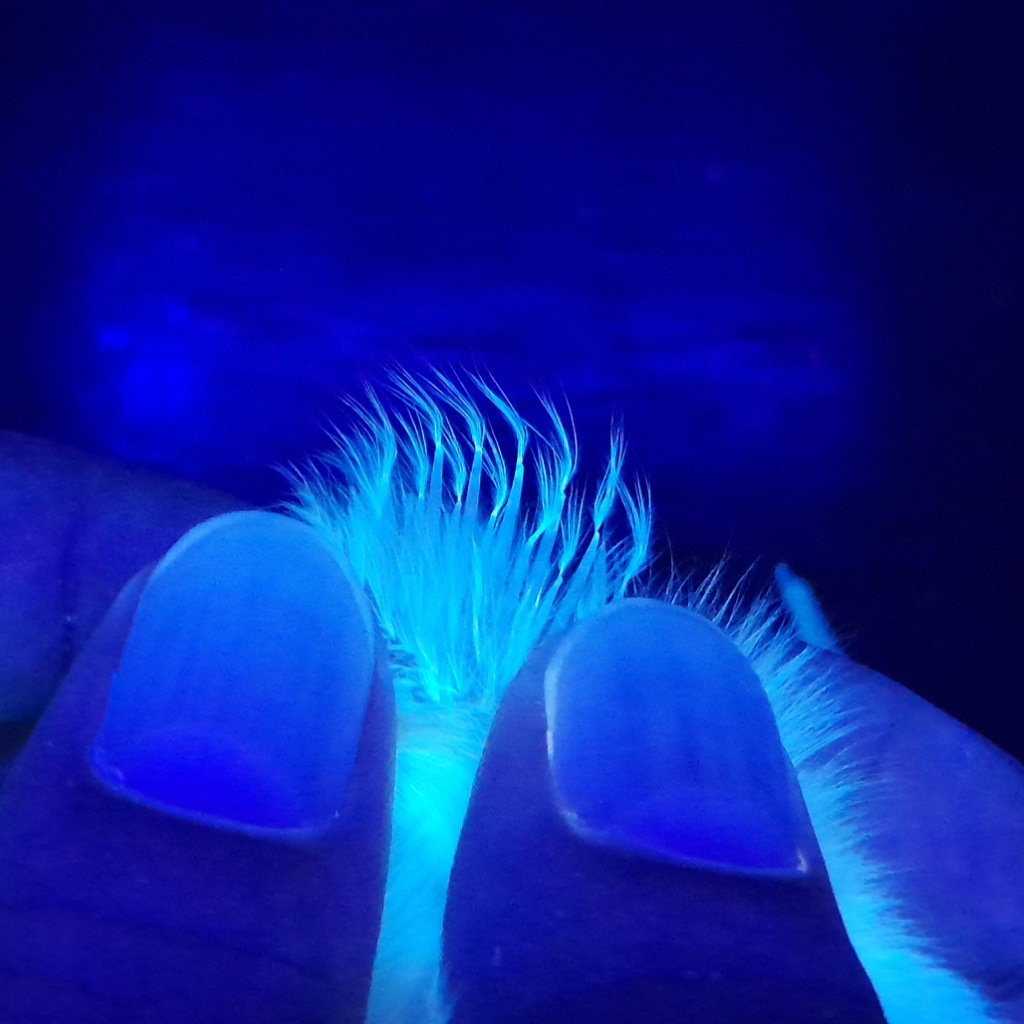female: (355, 423, 648, 729)
